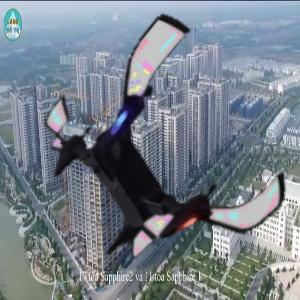drone: (42, 32, 295, 285)
